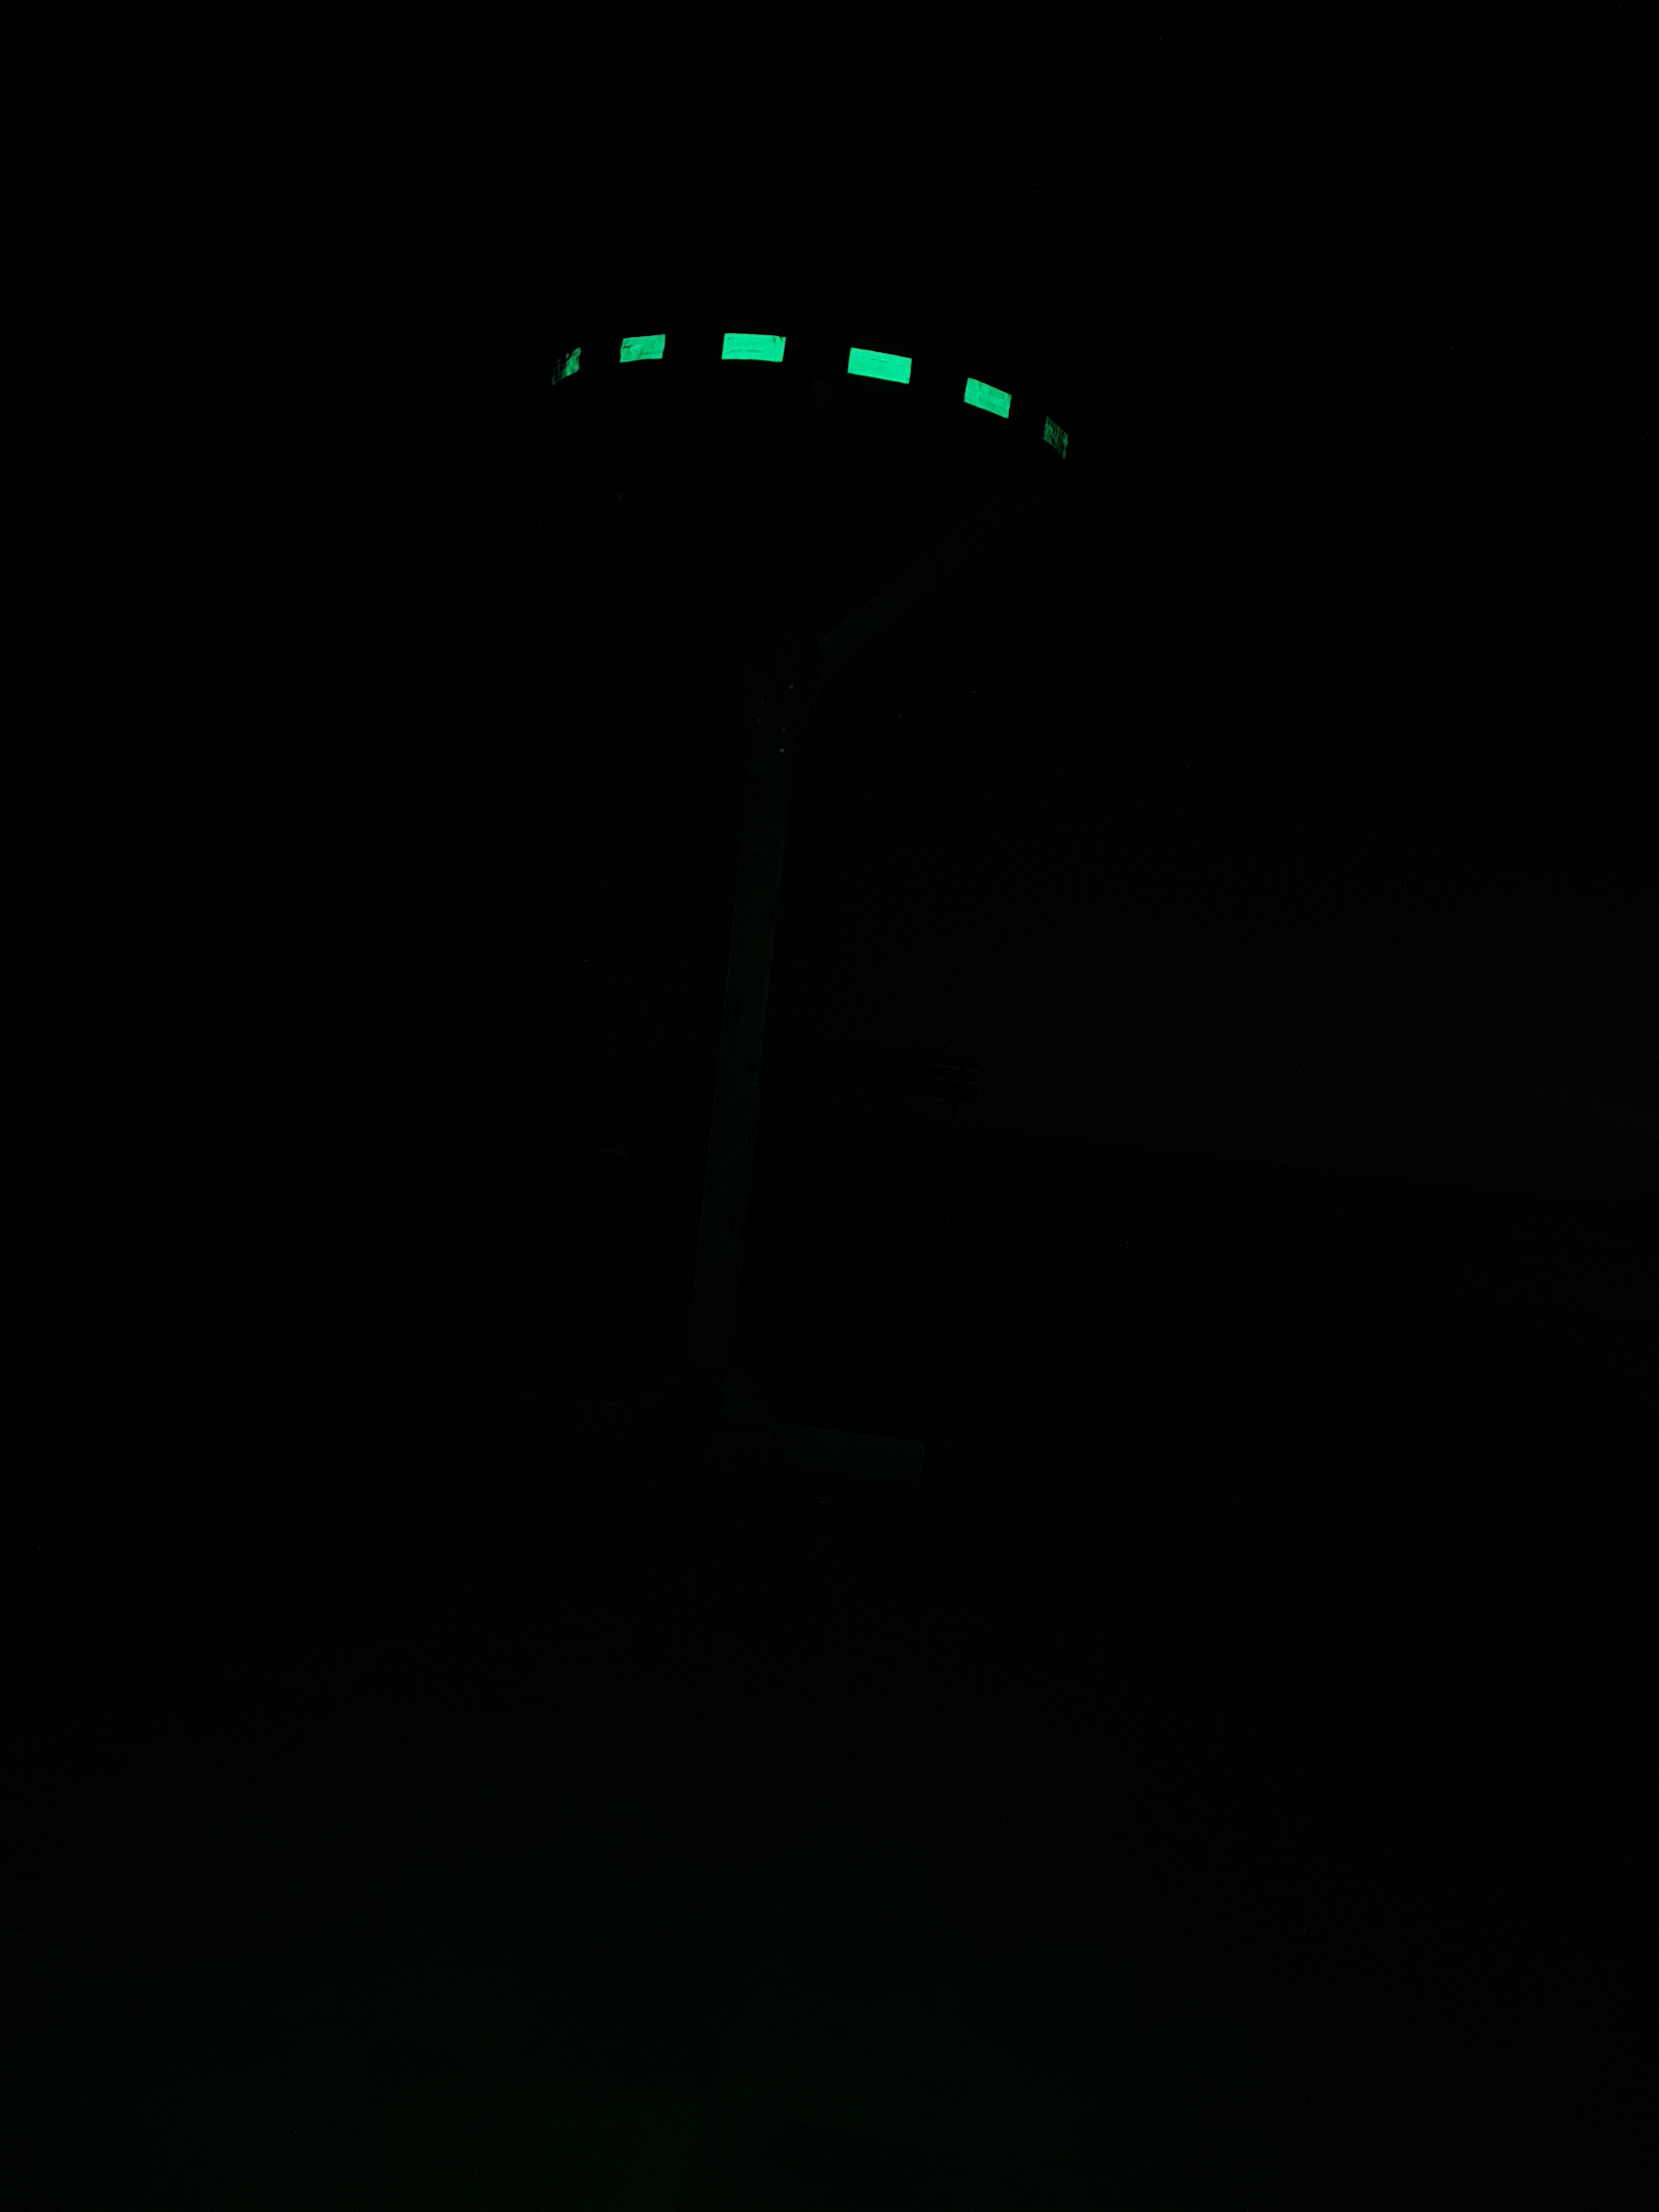hoop: (549, 305, 1075, 475)
